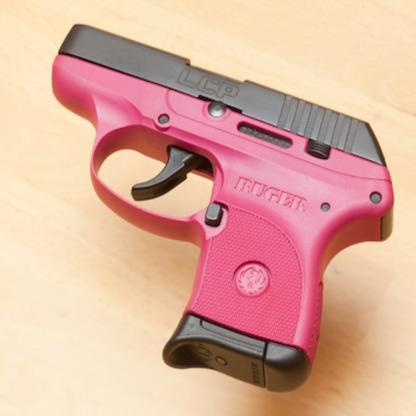Handgun: (51, 23, 394, 392)
